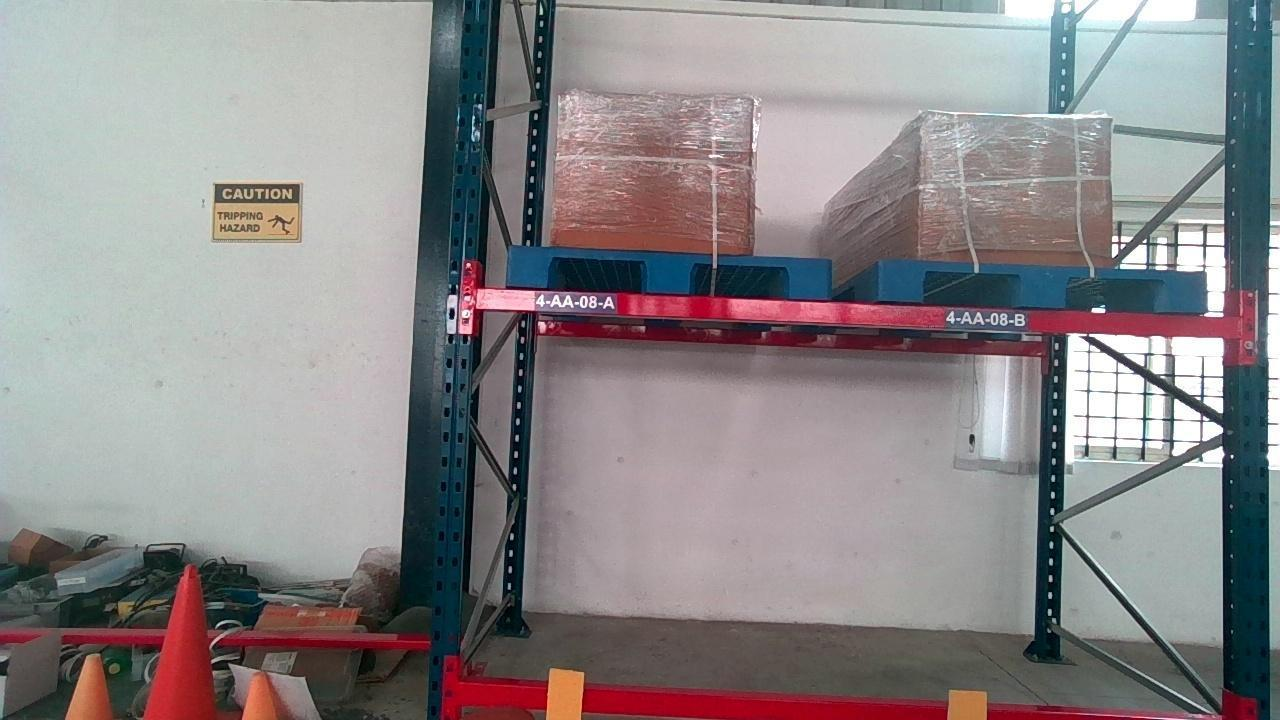h_rack: (464, 676, 1218, 720), (482, 290, 1231, 332)
orange_strip: (545, 668, 585, 720), (947, 690, 990, 720)
small_pallet: (882, 263, 1203, 306), (510, 250, 825, 293)
